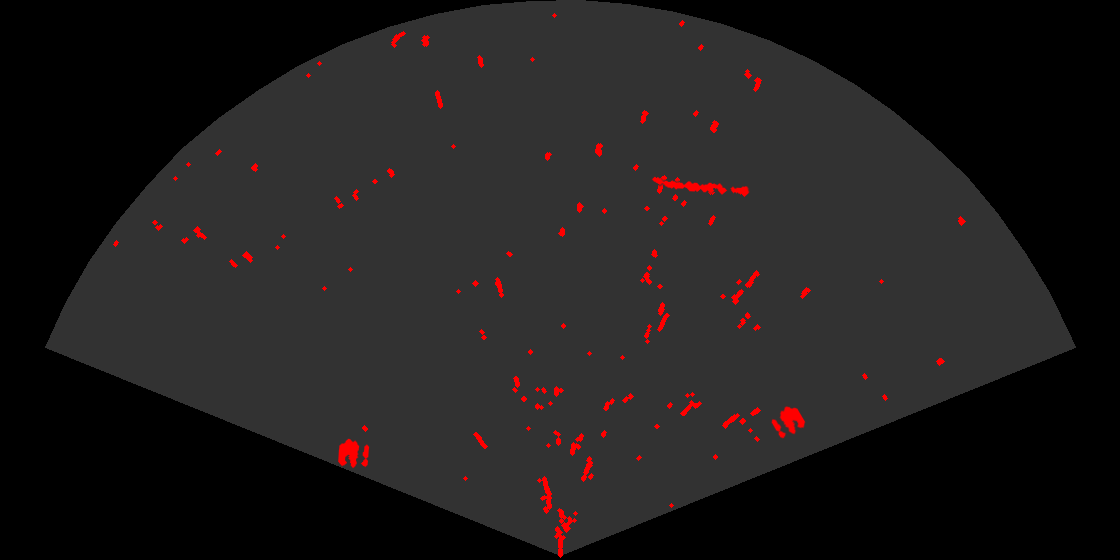ball: (770, 405, 807, 440), (337, 437, 371, 470)
chain: (650, 175, 750, 199)
